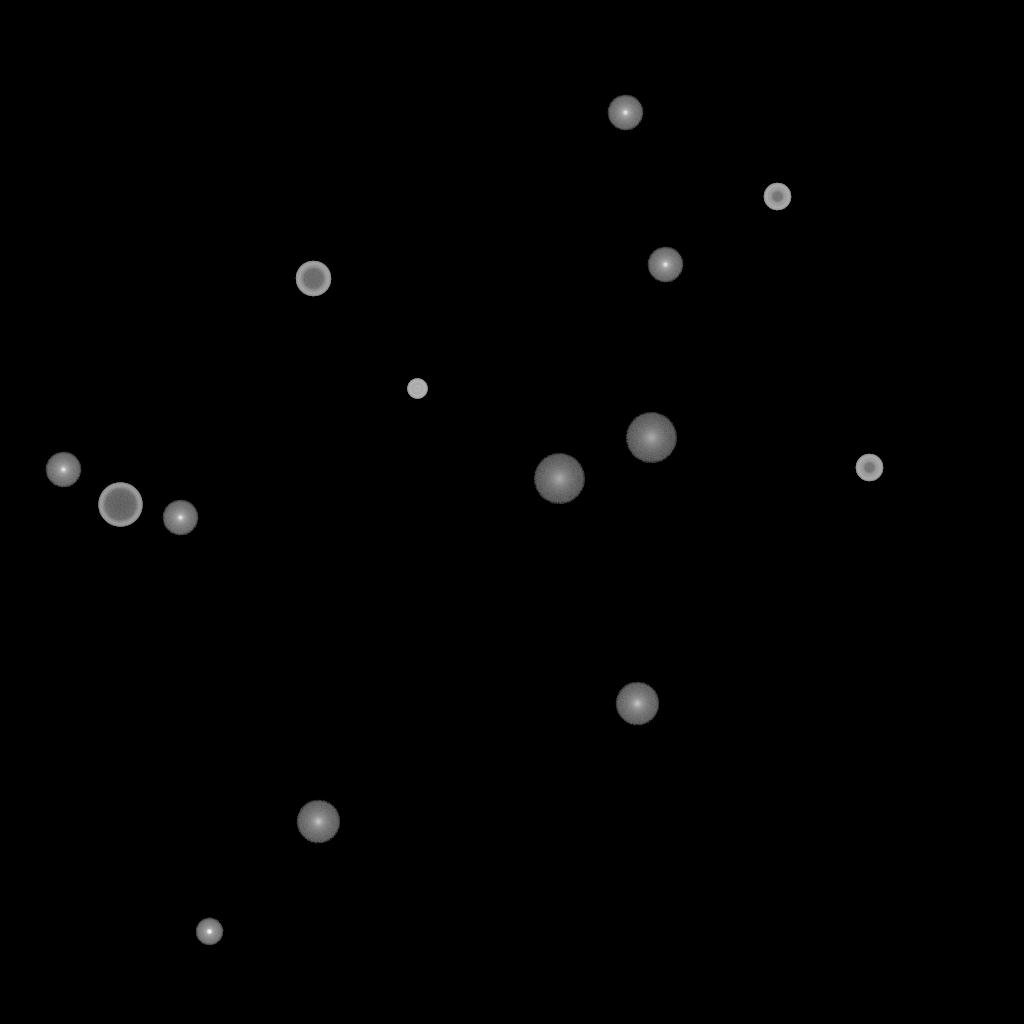depth:-10: (195, 918, 223, 946)
depth:-40: (407, 379, 427, 399)
depth:-50: (763, 183, 791, 211), (855, 454, 883, 482)
depth:-60: (295, 261, 331, 297)
depth:-70: (98, 483, 142, 527)
depth:0: (45, 452, 81, 488), (607, 95, 643, 131), (647, 247, 683, 283), (162, 500, 198, 536)
depth:10: (296, 800, 340, 844), (615, 682, 659, 726)
depth:20: (625, 413, 677, 463), (533, 454, 585, 504)
